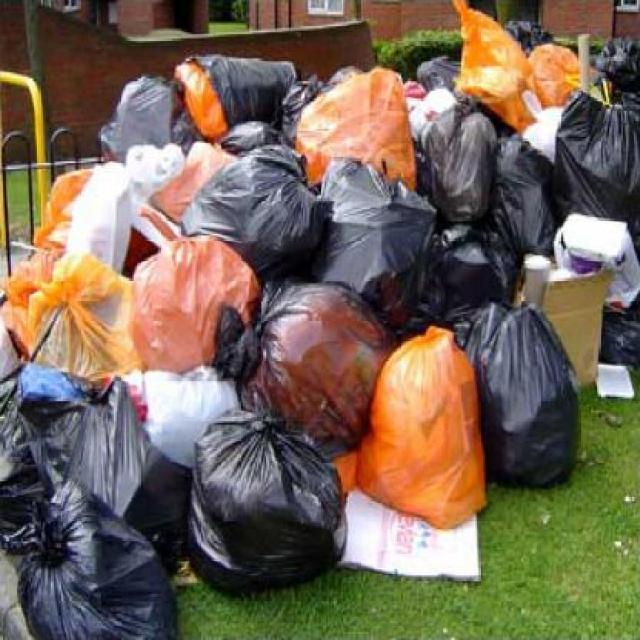garbage: (185, 63, 491, 586), (0, 246, 175, 635), (492, 25, 593, 474), (54, 91, 172, 244), (602, 31, 639, 400)
